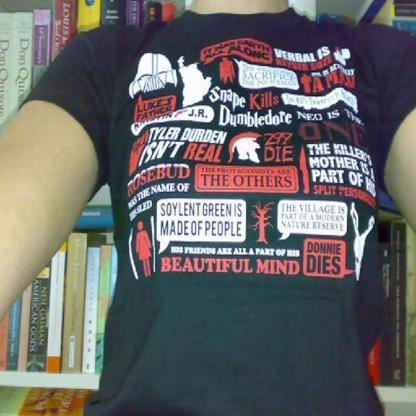book: (0, 0, 190, 206), (0, 202, 111, 378), (363, 215, 415, 388), (0, 386, 93, 415), (352, 0, 416, 40)
